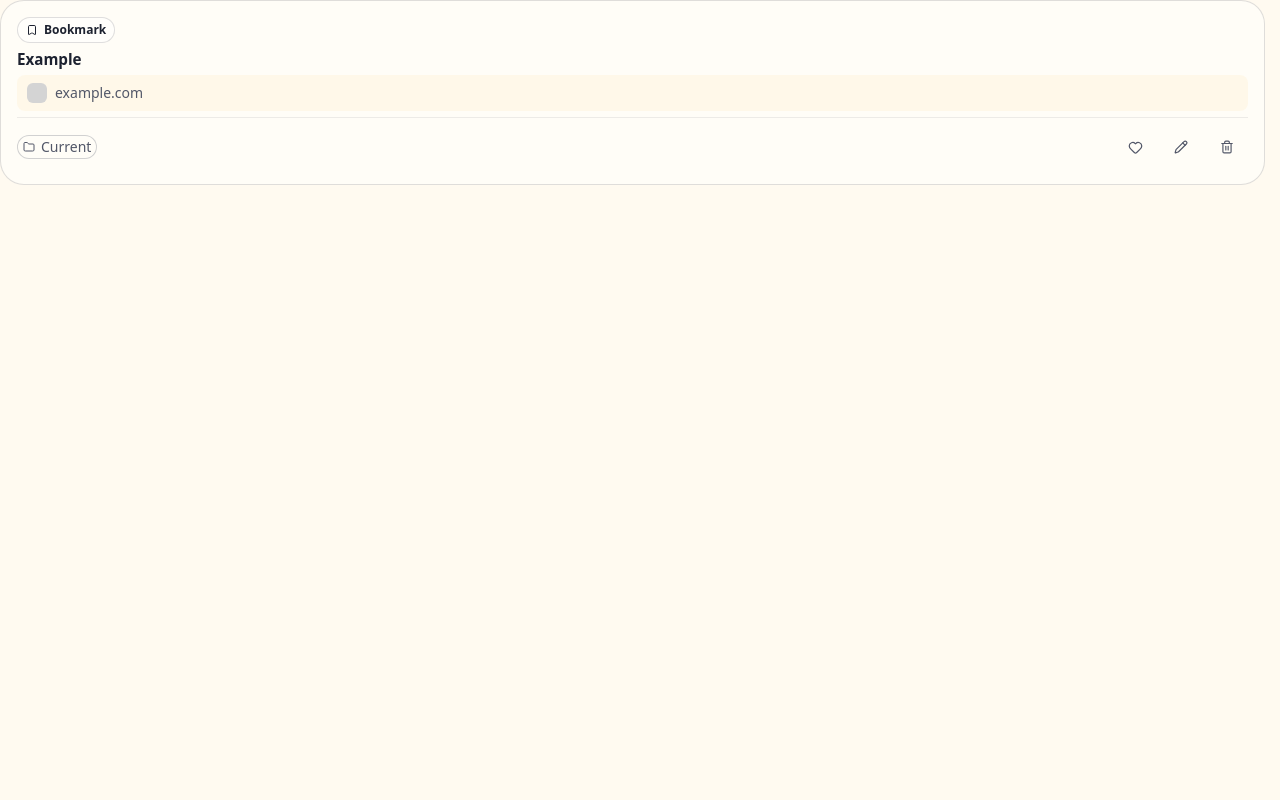
BookmarkCard › warns that local deletion is immediate and Trash requires cloud
Click the button named "Delete bookmark permanently" at (1227, 147), box [1206, 126, 1248, 168]
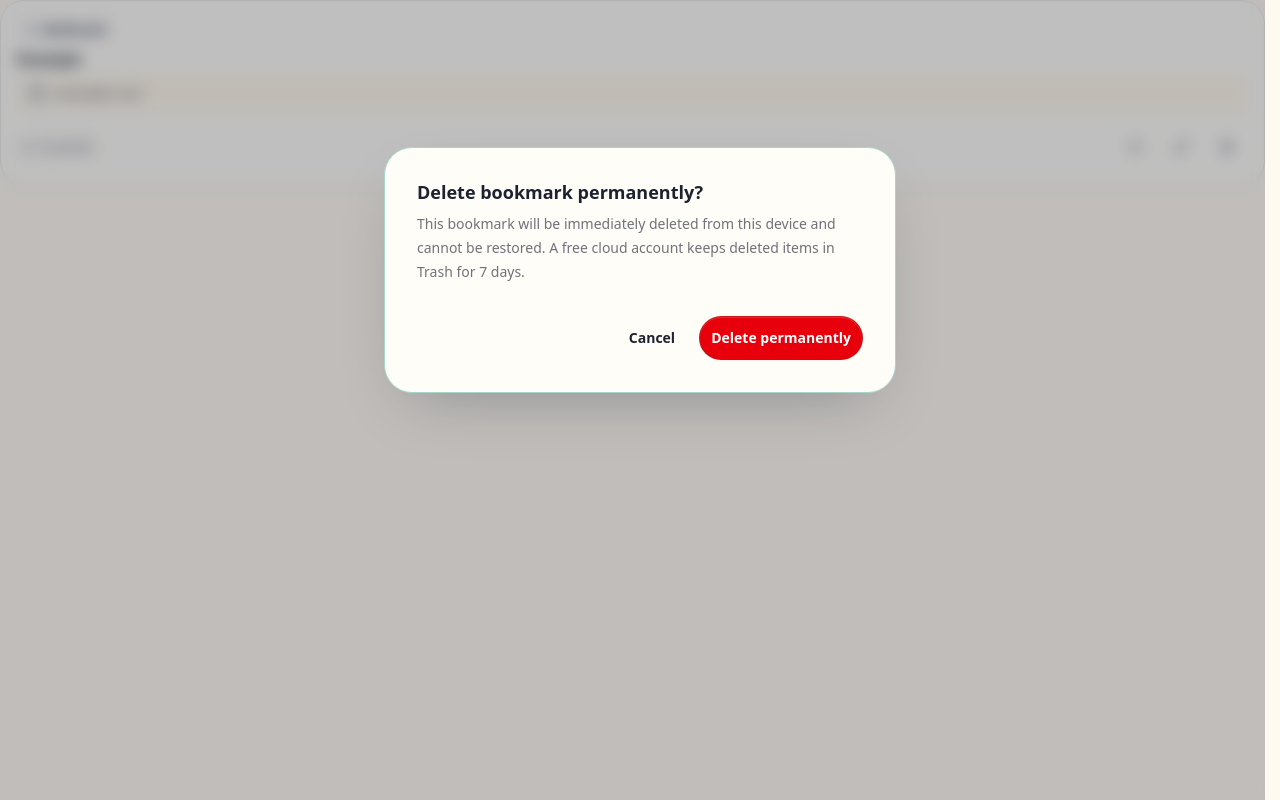
Result: the text "immediately deleted" is shown at [417, 214, 836, 280]
Result: the text "free cloud account" is shown at [417, 214, 836, 280]
Result: the text "7 days" is shown at [417, 214, 836, 280]
